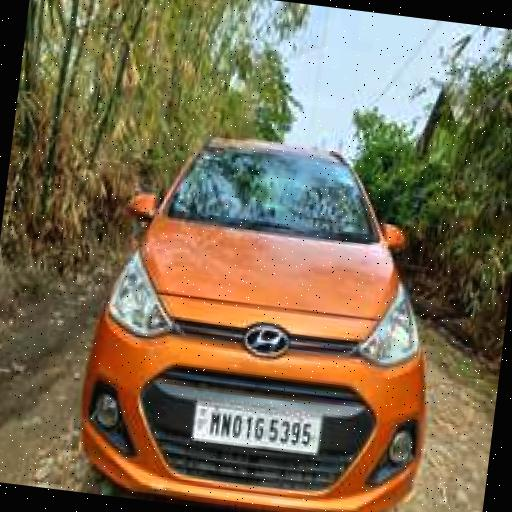license_plate`: (188, 398, 320, 452)
